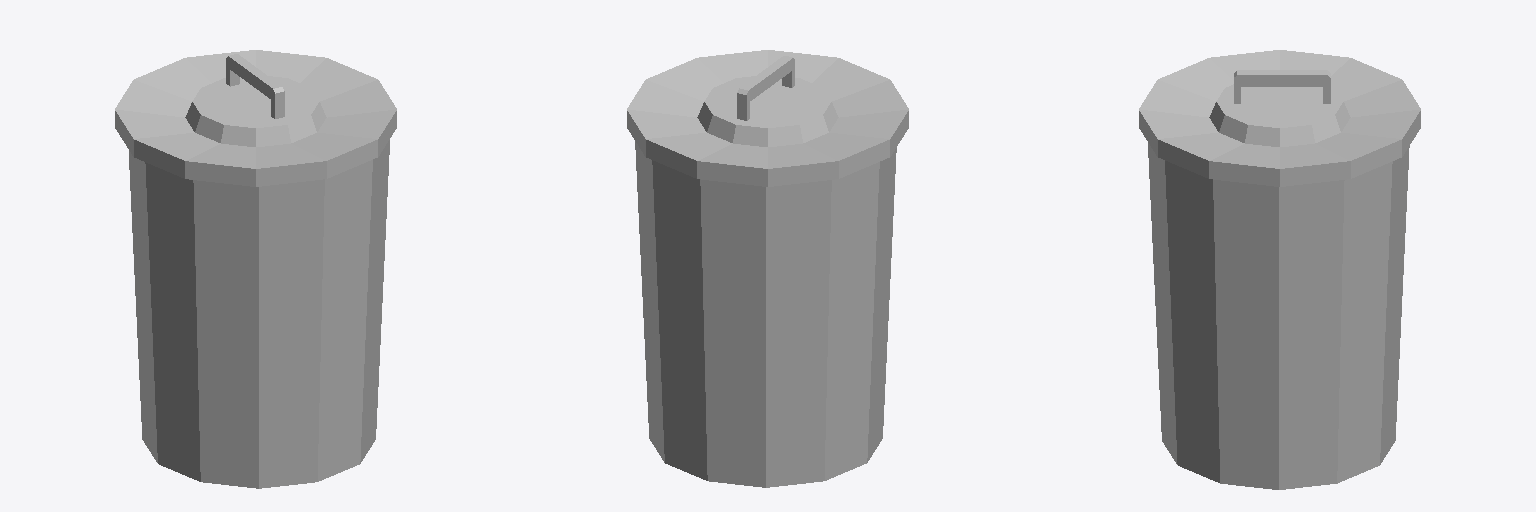
The model's file is trashcan.obj.
3 views of the same model, side by side, from view 1: azimuth 30°, elevation 25°; view 2: azimuth 150°, elevation 25°; view 3: azimuth 270°, elevation 25° (orthographic).
Visible parts, largest first — view 1: pCylinder76; view 2: pCylinder76; view 3: pCylinder76.
Boxes of the visible parts, box(x1,y1,x2,y2) form: pCylinder76: box(115, 50, 396, 488); pCylinder76: box(627, 50, 908, 487); pCylinder76: box(1139, 50, 1420, 489).
Bounding box in the file's own units: 1.44 × 2.07 × 1.44.